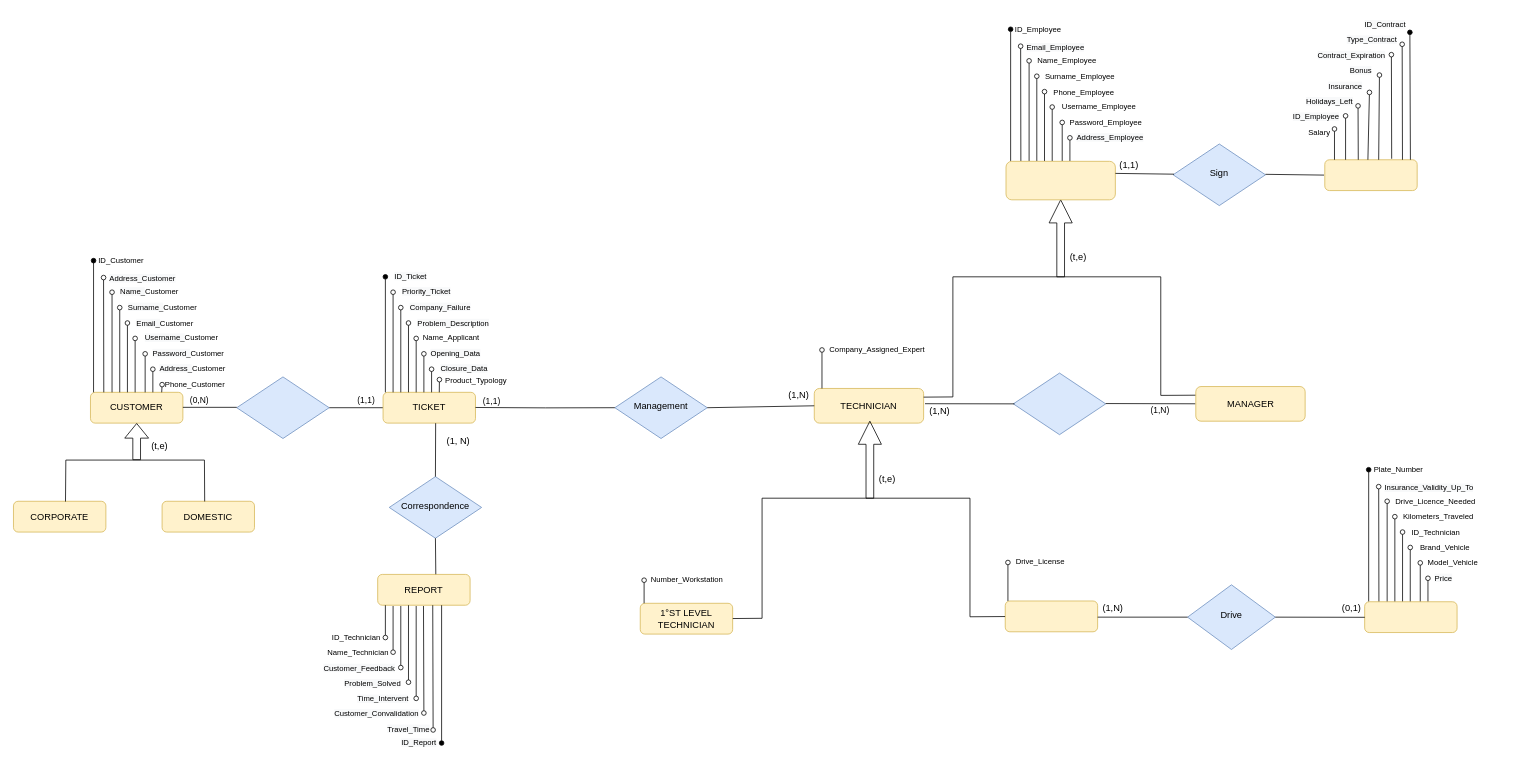
Image size: 1532x768. Some labels were removed from this diagram. The shapes that lost their labels are listed below. From the top down, each one's box as (x1, y1, x2, y2) in pixels, then its label:
(1005, 161, 1115, 200): Employee
(1324, 159, 1417, 191): CONTRACT
(236, 376, 329, 439): Submission
(1013, 372, 1106, 435): Supervision
(1004, 600, 1098, 632): 2°ND LEVEL TECHNICIAN
(1364, 601, 1457, 633): VEHICLE
